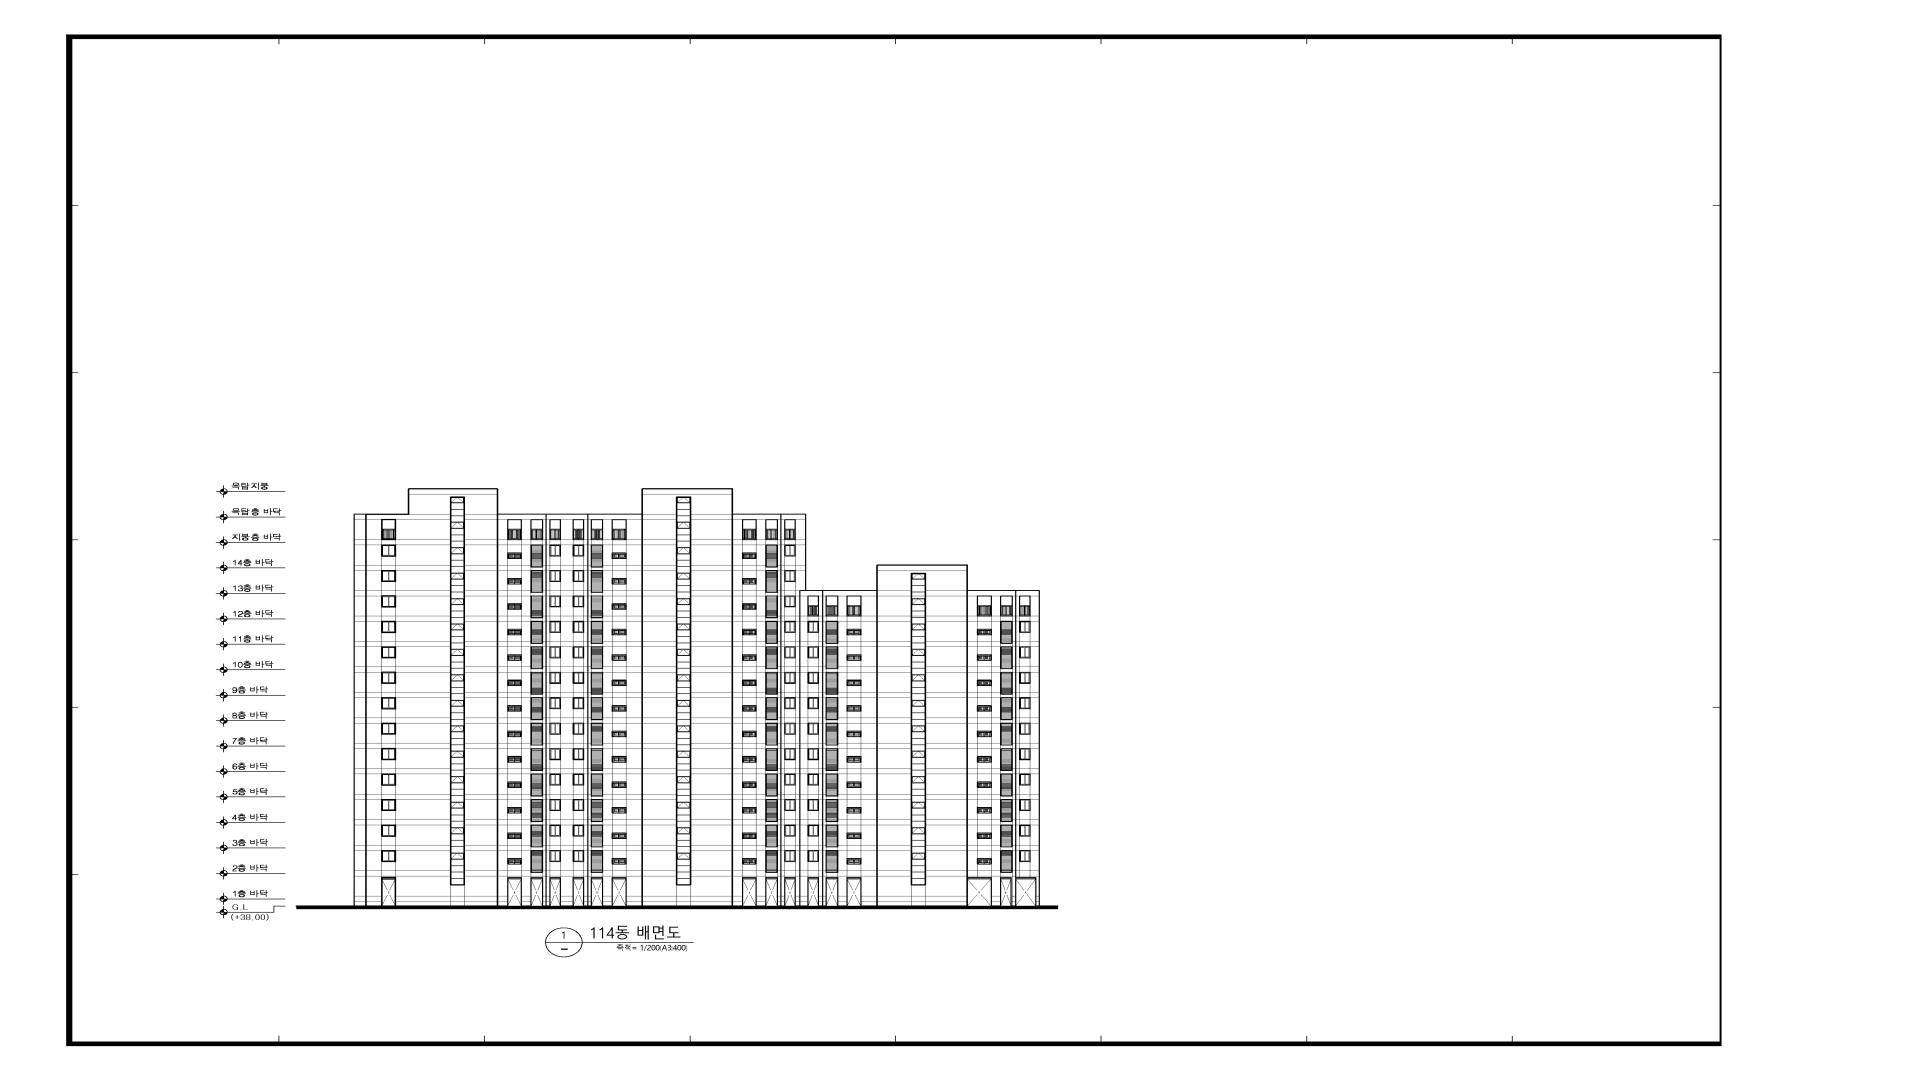door: (967, 877, 992, 906), (1015, 877, 1036, 906), (381, 877, 396, 906), (508, 877, 522, 906), (612, 877, 626, 906), (742, 877, 757, 906), (847, 877, 861, 906), (530, 877, 543, 906), (765, 877, 778, 906), (825, 877, 839, 906), (572, 877, 584, 906), (591, 877, 603, 906), (807, 877, 819, 906), (1000, 877, 1011, 906), (550, 877, 560, 906), (785, 877, 795, 906)
wall: (353, 488, 1040, 909)
window: (530, 545, 543, 568), (530, 570, 543, 593), (530, 748, 543, 771), (530, 824, 543, 848), (765, 570, 778, 593), (765, 671, 778, 695), (765, 748, 778, 771), (765, 824, 778, 848), (825, 671, 839, 695), (825, 748, 839, 771), (825, 824, 839, 848), (1000, 671, 1013, 695), (1000, 748, 1013, 771), (1000, 824, 1013, 848), (847, 596, 861, 617), (977, 596, 992, 617), (381, 520, 396, 541), (508, 520, 522, 541), (612, 520, 626, 541), (742, 520, 757, 541), (1000, 851, 1013, 873), (530, 596, 543, 618), (530, 621, 543, 644), (530, 646, 543, 669), (530, 673, 543, 695), (530, 698, 543, 720), (530, 723, 543, 745), (530, 774, 543, 796), (530, 799, 543, 822), (530, 851, 543, 873), (765, 545, 778, 567), (765, 596, 778, 618), (765, 621, 778, 644), (765, 646, 778, 669), (765, 698, 778, 720), (765, 723, 778, 745), (765, 774, 778, 796), (765, 799, 778, 822), (765, 851, 778, 873), (825, 621, 839, 644), (825, 646, 839, 669), (825, 698, 839, 720), (825, 723, 839, 745), (825, 774, 839, 796), (825, 799, 839, 822), (825, 851, 839, 873), (1000, 621, 1013, 644), (1000, 646, 1013, 669), (1000, 698, 1013, 720), (1000, 723, 1013, 745), (1000, 774, 1013, 796), (1000, 799, 1013, 822), (591, 570, 603, 593), (591, 748, 603, 771), (591, 824, 603, 848), (530, 520, 543, 541), (765, 520, 778, 541), (591, 545, 603, 567), (591, 596, 603, 618), (591, 621, 603, 644), (591, 646, 603, 669), (591, 673, 603, 695), (591, 698, 603, 720), (591, 723, 603, 745), (591, 774, 603, 796), (591, 799, 603, 822), (591, 851, 603, 873), (825, 596, 839, 616), (1000, 596, 1013, 616), (807, 596, 819, 617), (1019, 596, 1031, 617), (572, 520, 584, 541), (591, 520, 603, 541), (550, 520, 560, 541), (785, 520, 795, 541), (381, 595, 396, 608), (381, 671, 396, 684), (381, 748, 396, 761), (381, 824, 396, 837), (381, 545, 396, 556), (381, 570, 396, 582), (381, 621, 396, 633), (381, 646, 396, 658), (381, 698, 396, 709), (381, 723, 396, 735), (381, 774, 396, 786), (381, 799, 396, 811), (381, 851, 396, 862), (572, 671, 584, 684), (572, 773, 584, 786), (807, 671, 819, 684), (1019, 773, 1031, 786), (572, 545, 584, 556), (572, 570, 584, 582), (572, 596, 584, 608), (572, 621, 584, 633), (572, 646, 584, 658), (572, 698, 584, 709), (572, 723, 584, 735), (572, 748, 584, 760), (572, 799, 584, 811), (572, 824, 584, 836), (572, 851, 584, 862), (807, 621, 819, 633), (807, 646, 819, 658), (807, 698, 819, 709), (807, 723, 819, 735), (807, 748, 819, 760), (807, 774, 819, 786), (807, 799, 819, 811), (807, 824, 819, 836), (807, 851, 819, 862), (1019, 621, 1031, 633), (1019, 646, 1031, 658), (1019, 673, 1031, 684), (1019, 698, 1031, 709), (1019, 723, 1031, 735), (1019, 748, 1031, 760), (1019, 799, 1031, 811), (1019, 824, 1031, 836), (1019, 851, 1031, 862), (550, 773, 560, 786), (450, 496, 465, 504), (450, 597, 465, 605), (450, 674, 465, 682), (450, 750, 465, 758), (450, 827, 465, 835), (450, 852, 465, 860), (675, 597, 691, 605), (675, 674, 691, 682), (675, 750, 691, 758), (550, 545, 560, 556), (550, 570, 560, 582), (550, 621, 560, 633), (550, 646, 560, 658), (550, 673, 560, 684), (550, 698, 560, 709), (550, 723, 560, 735), (550, 748, 560, 760), (550, 799, 560, 811), (550, 824, 560, 836), (550, 851, 560, 862), (785, 545, 795, 556), (785, 570, 795, 582), (785, 596, 795, 608), (785, 621, 795, 633), (785, 646, 795, 658), (785, 673, 795, 684), (785, 698, 795, 709), (785, 723, 795, 735), (785, 748, 795, 760), (785, 774, 795, 786), (785, 799, 795, 811), (785, 824, 795, 836), (785, 851, 795, 862), (676, 496, 691, 504), (676, 827, 691, 835), (676, 852, 691, 860), (911, 597, 926, 605), (911, 674, 926, 682), (911, 750, 926, 758), (911, 827, 926, 835), (911, 852, 926, 860), (550, 596, 560, 607), (450, 522, 465, 529), (450, 547, 465, 554), (450, 572, 465, 579), (450, 624, 465, 630), (450, 649, 465, 655), (450, 700, 465, 707), (450, 725, 465, 732), (450, 777, 465, 783), (450, 802, 465, 808), (675, 649, 691, 655), (675, 700, 691, 707), (675, 725, 691, 732), (675, 777, 691, 783), (676, 522, 691, 529), (676, 547, 691, 554), (676, 572, 691, 579), (676, 624, 691, 630), (676, 802, 691, 808), (911, 572, 926, 579), (911, 624, 926, 630), (911, 649, 926, 655), (911, 700, 926, 707), (911, 725, 926, 732), (911, 777, 926, 783), (911, 802, 926, 808), (508, 553, 522, 559), (508, 578, 522, 584), (508, 603, 522, 609), (508, 629, 522, 636), (508, 654, 522, 661), (508, 679, 522, 686), (508, 705, 522, 712), (508, 731, 522, 737), (508, 756, 522, 762), (508, 807, 522, 814), (508, 832, 522, 839), (508, 858, 522, 865), (612, 553, 626, 559), (612, 578, 626, 584), (612, 603, 626, 609), (612, 629, 626, 636), (612, 654, 626, 661), (612, 679, 626, 686), (612, 705, 626, 712), (612, 731, 626, 737), (612, 756, 626, 762), (612, 807, 626, 814), (612, 832, 626, 839), (612, 858, 626, 865), (742, 553, 757, 559), (742, 578, 757, 584), (742, 603, 757, 609), (742, 629, 757, 636), (742, 654, 757, 661), (742, 679, 757, 686), (742, 705, 757, 712), (742, 731, 757, 737), (742, 756, 757, 762), (742, 807, 757, 814), (742, 832, 757, 839), (742, 858, 757, 865), (847, 629, 861, 636), (847, 654, 861, 661), (847, 679, 861, 686), (847, 705, 861, 712), (847, 731, 861, 737), (847, 756, 861, 762), (847, 807, 861, 814), (847, 832, 861, 839), (847, 858, 861, 865), (977, 629, 992, 636), (977, 654, 992, 661), (977, 679, 992, 686), (977, 705, 992, 712), (977, 731, 992, 737), (977, 756, 992, 762), (977, 807, 992, 814), (977, 832, 992, 839), (977, 858, 992, 865), (508, 782, 522, 787), (612, 782, 626, 787), (742, 782, 757, 787), (847, 782, 861, 787), (977, 782, 992, 787)
